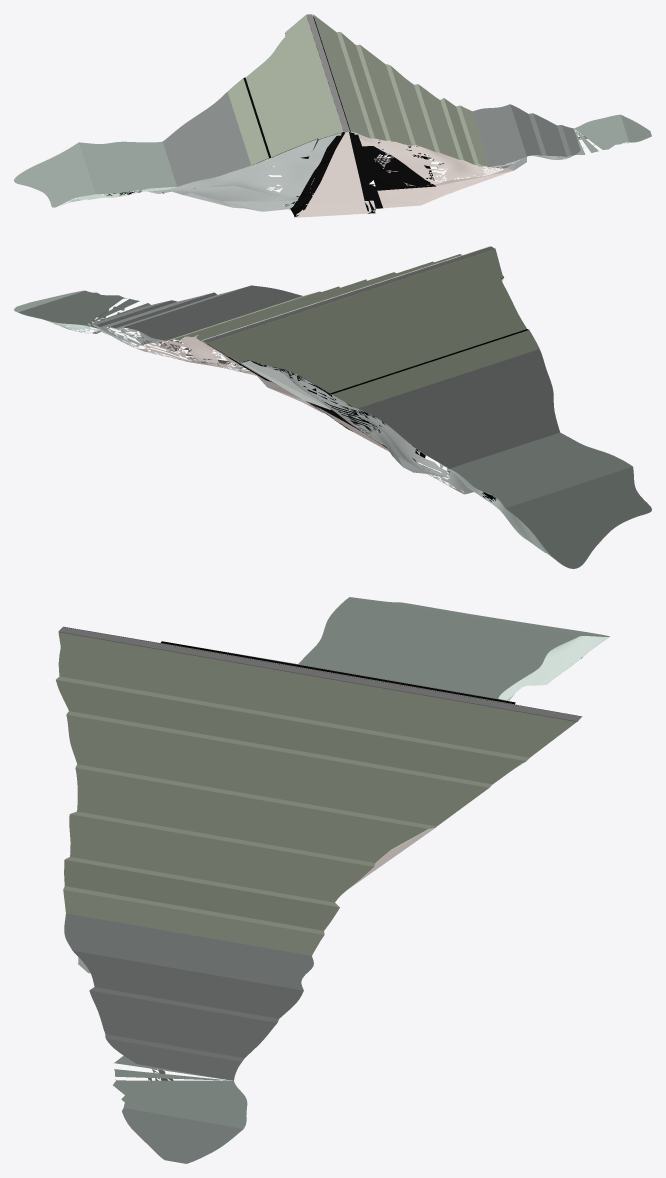
The picture shows the model from 3 angles, top to bottom: view 1: azimuth 30°, elevation 25°; view 2: azimuth 150°, elevation 25°; view 3: azimuth 270°, elevation 25°; orthographic projection. The views are drawn at different scales.
Parts seen in each view (by area): view 1: daba03, daba05, daba04, daba06, daba02, daba08, daba16, daba07, daba09, daba25, daba17, daba15 (+4 smaller); view 2: daba04, daba05, daba06, daba02, daba07, daba03, daba08, daba25, daba17, daba01, daba14; view 3: daba03, daba02, daba06, daba07, daba25, daba01, daba14.
Part boxes in pixels (x1,y1,x2,y2): daba03: (313, 14, 490, 166); daba05: (148, 35, 341, 211); daba04: (227, 15, 343, 165); daba06: (14, 141, 176, 207); daba02: (473, 104, 580, 170); daba08: (350, 132, 513, 208); daba16: (301, 132, 367, 217); daba07: (552, 114, 651, 159); daba09: (362, 146, 435, 190); daba25: (306, 14, 349, 132); daba17: (284, 135, 339, 217); daba15: (355, 134, 382, 213); daba04: (207, 249, 539, 408); daba05: (240, 278, 559, 494); daba06: (449, 432, 651, 568); daba02: (86, 285, 302, 345); daba07: (14, 290, 156, 346); daba03: (167, 246, 489, 341); daba08: (133, 335, 324, 413); daba25: (202, 246, 495, 343); daba17: (251, 361, 425, 461); daba01: (449, 469, 553, 558); daba14: (240, 277, 528, 402); daba03: (56, 632, 576, 955); daba02: (64, 913, 313, 1080); daba06: (298, 597, 609, 698); daba07: (113, 1055, 247, 1163); daba25: (58, 627, 581, 721); daba01: (498, 636, 609, 699); daba14: (65, 627, 576, 715).
Size of the model in its own units: 1429 by 315 by 633.
